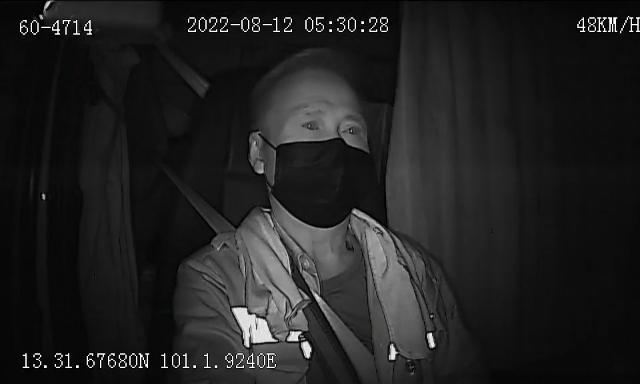SafeDriving: (336, 116, 366, 139), (298, 115, 326, 134)
Seatbelt: (172, 176, 380, 384)
